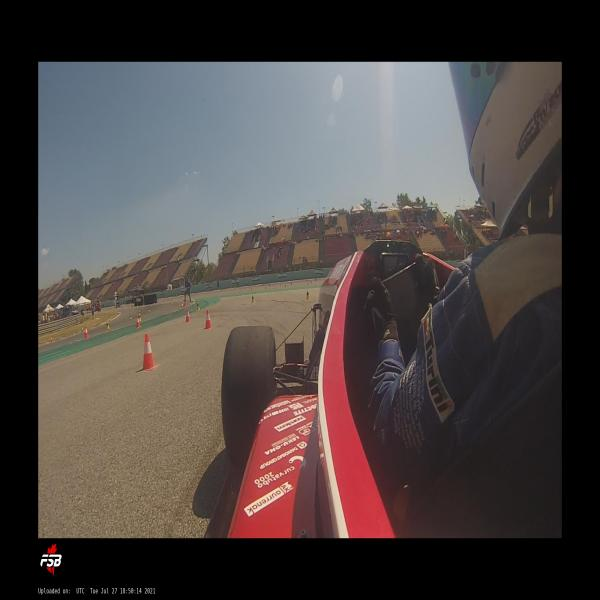orange_cone: (141, 333, 158, 372), (203, 310, 212, 330), (185, 308, 191, 323), (136, 315, 141, 328), (84, 326, 89, 338), (182, 301, 186, 307), (50, 336, 53, 342), (82, 327, 84, 333)
yellow_cone: (138, 311, 142, 322), (251, 294, 255, 304), (197, 301, 200, 311), (306, 290, 309, 300), (106, 321, 110, 328)
